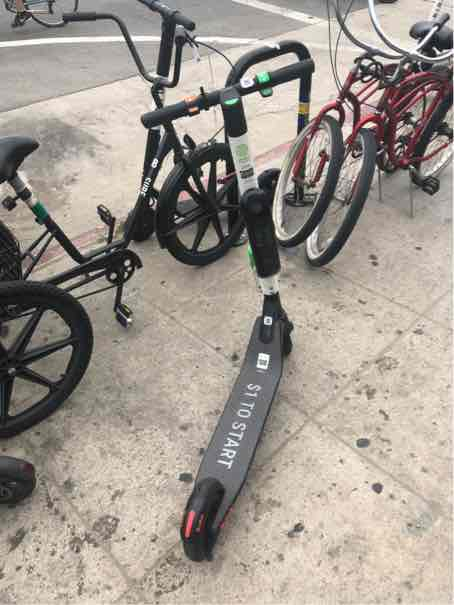scooter: (125, 51, 334, 557)
